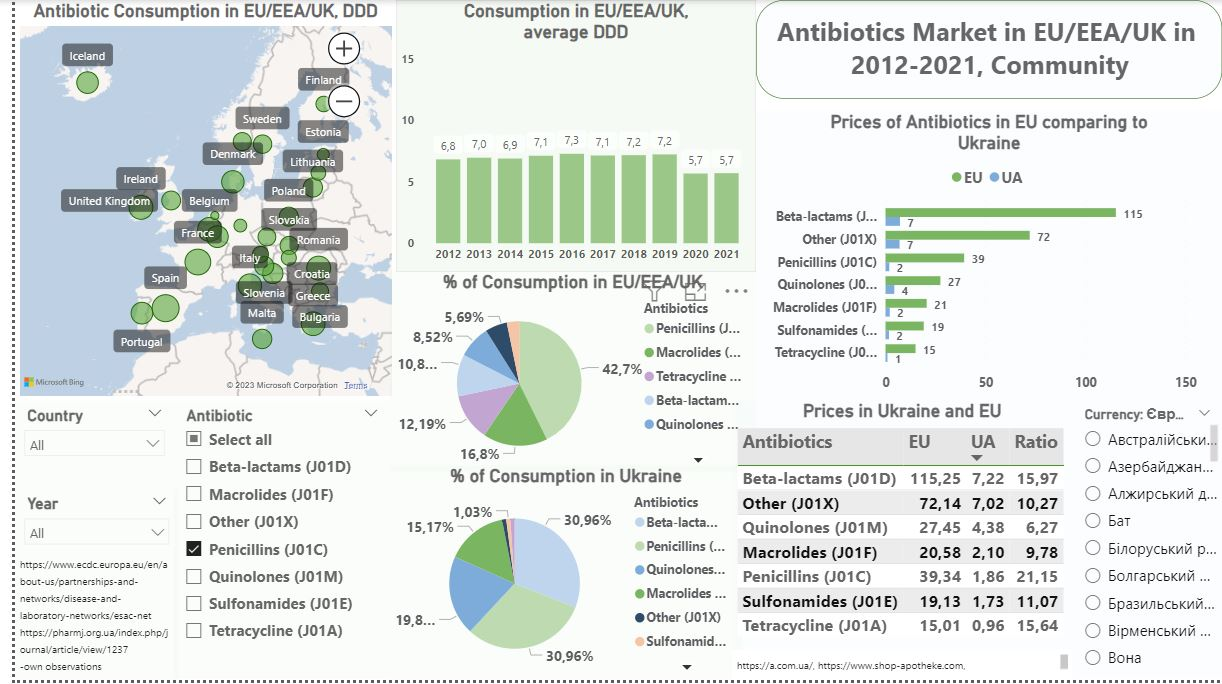

Layout of this report page (visuals, bound fields, positions):
{"tool":"powerbi","page":{"name":"Page 1","canvas":[1280,720],"ordinal":0},"visuals":[{"type":"map","title":"Antibiotic Consumption in EU/EEA/UK, DDD","fields":{"Category":["Antibiotics.Country"],"Size":["Max(Antibiotics.Consumption)"]},"box":[0,0,403.7,424.4],"z":0},{"type":"lineClusteredColumnComboChart","title":"Consumption in EU/EEA/UK, average DDD","fields":{"Category":["Antibiotics.Data.Variation.Date Hierarchy.Year"],"Y":["Avg(Antibiotics.Consumption)"]},"box":[403.7,0,381.5,287.7],"z":1000},{"type":"slicer","fields":{"Values":["Antibiotics.Antibiotic "]},"box":[168.5,424.4,228.9,295.6],"z":2000},{"type":"slicer","fields":{"Values":["Antibiotics.Country"]},"box":[0,424.4,168.5,93.8],"z":3000},{"type":"slicer","fields":{"Values":["Antibiotics.Data.Variation.Date Hierarchy.Year"]},"box":[0,518.1,173.2,201.9],"z":4000},{"type":"pieChart","title":"% of Consumption in EU/EEA/UK","fields":{"Y":["Max(Antibiotics EU Percentage.% of Consumption)"],"Category":["Antibiotics EU Percentage.Antibiotics"],"Series":["Antibiotics EU Percentage.Region"]},"box":[397.4,287.7,387.8,213],"z":5000},{"type":"pieChart","title":"% of Consumption in Ukraine","fields":{"Y":["Max(Antibiotics Ukr Percentage.% of Consumption)"],"Category":["Antibiotics Ukr Percentage.Antibiotics"],"Series":["Antibiotics Ukr Percentage.Country"]},"box":[397.4,492.7,373.5,227.3],"z":6000},{"type":"tableEx","title":" Prices  in Ukraine and EU","fields":{"Values":["Prices_Total.Antibiotics","Prices_Total.EU","Prices_Total.Ukraine","Prices_Total.Ratio"]},"box":[759.7,424.4,360.8,295.6],"z":7000},{"type":"textbox","box":[0,582,168,138],"z":8000},{"type":"slicer","fields":{"Values":["exchange.txt"]},"box":[1120.5,424.4,158.9,295.6],"z":9000},{"type":"clusteredBarChart","title":"Prices of Antibiotics in EU comparing to Ukraine","fields":{"Category":["Prices_Total.Antibiotics"],"Y":["Prices_Total.EU","Prices_Total.Ukraine"]},"box":[785.2,117.6,494.3,306.8],"z":10000},{"type":"textbox","box":[785.2,0,494.3,104.9],"z":11000},{"type":"textbox","box":[759.7,688.2,360.8,31.8],"z":12000}]}

Visuals, with their boxes in screenshot pixels (x1, y1, x2, y2), scaled from the page's 1280x720 canvas onto the 1222x684 screenshot:
"Antibiotic Consumption in EU/EEA/UK, DDD" map: bbox(0, 0, 385, 403)
"Consumption in EU/EEA/UK, average DDD" lineClusteredColumnComboChart: bbox(385, 0, 750, 273)
slicer - Antibiotics.Antibiotic : bbox(161, 403, 379, 683)
slicer - Antibiotics.Country: bbox(0, 403, 161, 492)
slicer - Antibiotics.Data.Variation.Date Hierarchy.Year: bbox(0, 492, 165, 683)
"% of Consumption in EU/EEA/UK" pieChart: bbox(379, 273, 750, 476)
"% of Consumption in Ukraine" pieChart: bbox(379, 468, 736, 683)
" Prices  in Ukraine and EU" tableEx: bbox(725, 403, 1070, 683)
textbox: bbox(0, 553, 160, 683)
slicer - exchange.txt: bbox(1070, 403, 1221, 683)
"Prices of Antibiotics in EU comparing to Ukraine" clusteredBarChart: bbox(750, 112, 1221, 403)
textbox: bbox(750, 0, 1221, 100)
textbox: bbox(725, 654, 1070, 683)
